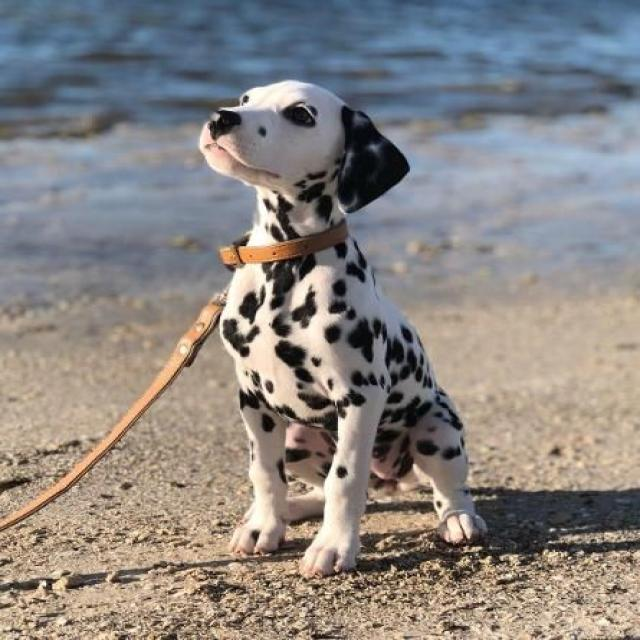Dogs: (189, 69, 489, 583)
